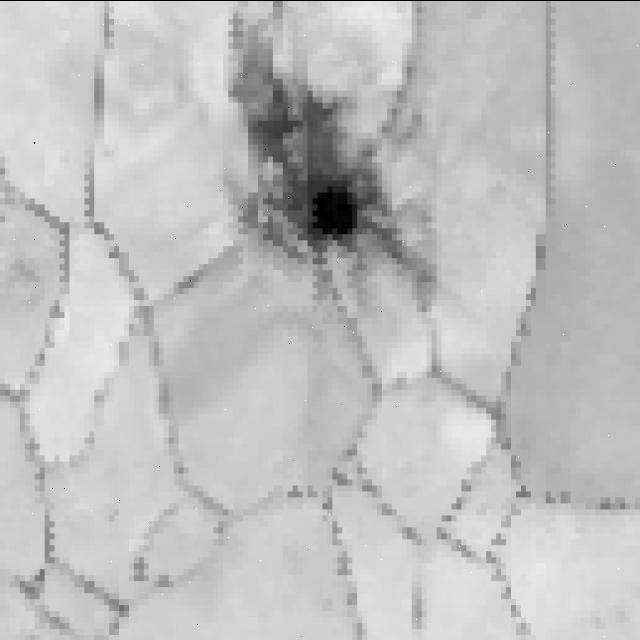good_void: (197, 0, 437, 313), (127, 537, 175, 601), (166, 262, 206, 306)
